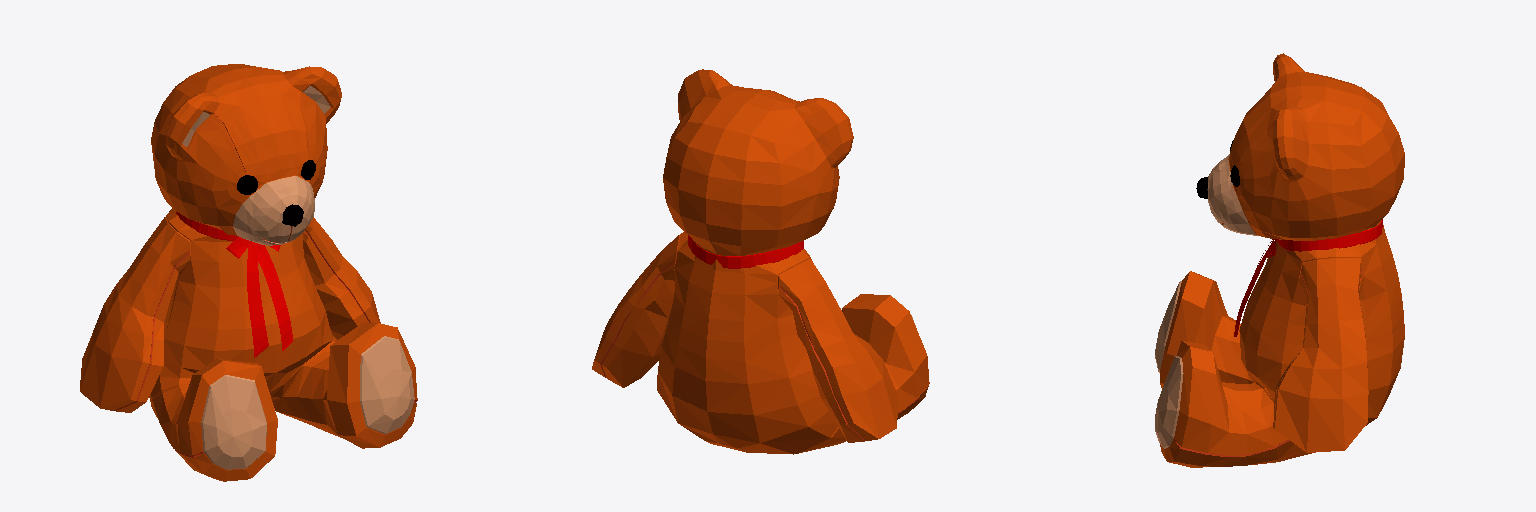
Rendered from kuma.obj.
The picture shows the model from 3 angles: view 1: azimuth 30°, elevation 25°; view 2: azimuth 150°, elevation 25°; view 3: azimuth 270°, elevation 25°; orthographic projection.
Visible parts, largest first — view 1: Object002, Object001, Generic04, Object004; view 2: Object002, Generic04; view 3: Object002, Object001, Generic04.
Boxes of the visible parts, <box> form: Object002: <box>80,64,417,481</box>; Object001: <box>182,86,414,469</box>; Generic04: <box>176,212,292,357</box>; Object004: <box>237,160,315,226</box>; Object002: <box>592,69,929,454</box>; Generic04: <box>688,235,803,268</box>; Object002: <box>1160,53,1404,467</box>; Object001: <box>1155,154,1257,448</box>; Generic04: <box>1234,219,1382,336</box>.
Bounding box in the file's own units: 605 × 699 × 456.